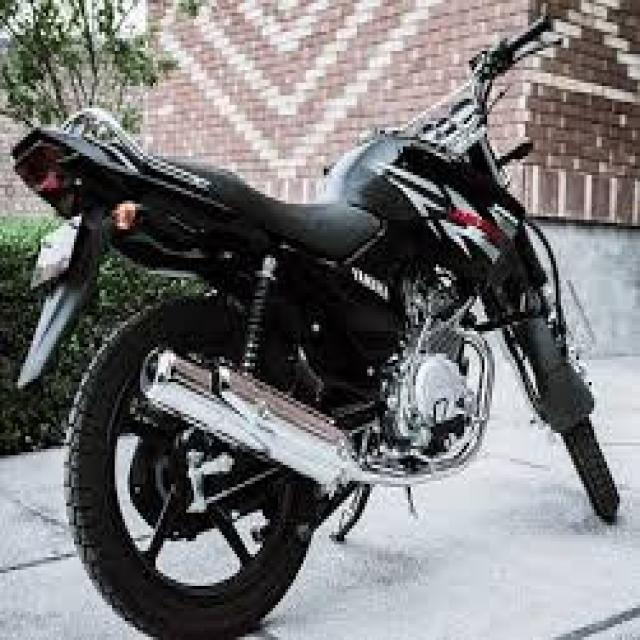bike: (11, 6, 618, 640)
